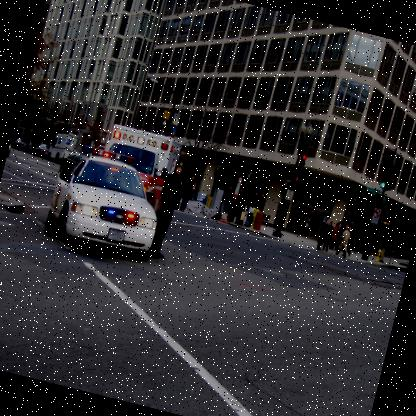Car: (43, 130, 175, 263), (60, 149, 90, 178), (12, 136, 30, 152), (34, 142, 50, 160), (6, 133, 16, 157), (10, 132, 22, 147)
